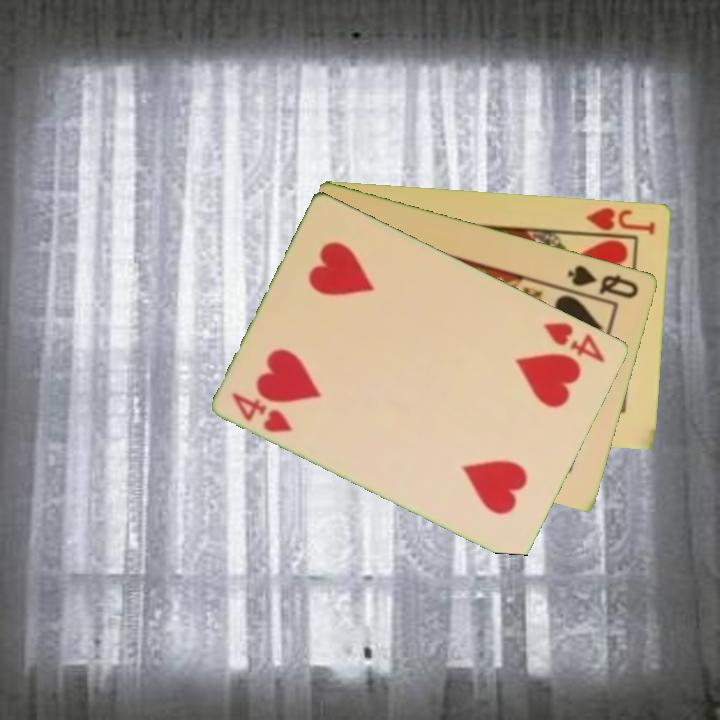4h: (228, 388, 296, 436), (541, 318, 609, 365)
Jh: (576, 203, 659, 239)
Qs: (564, 261, 642, 301)
